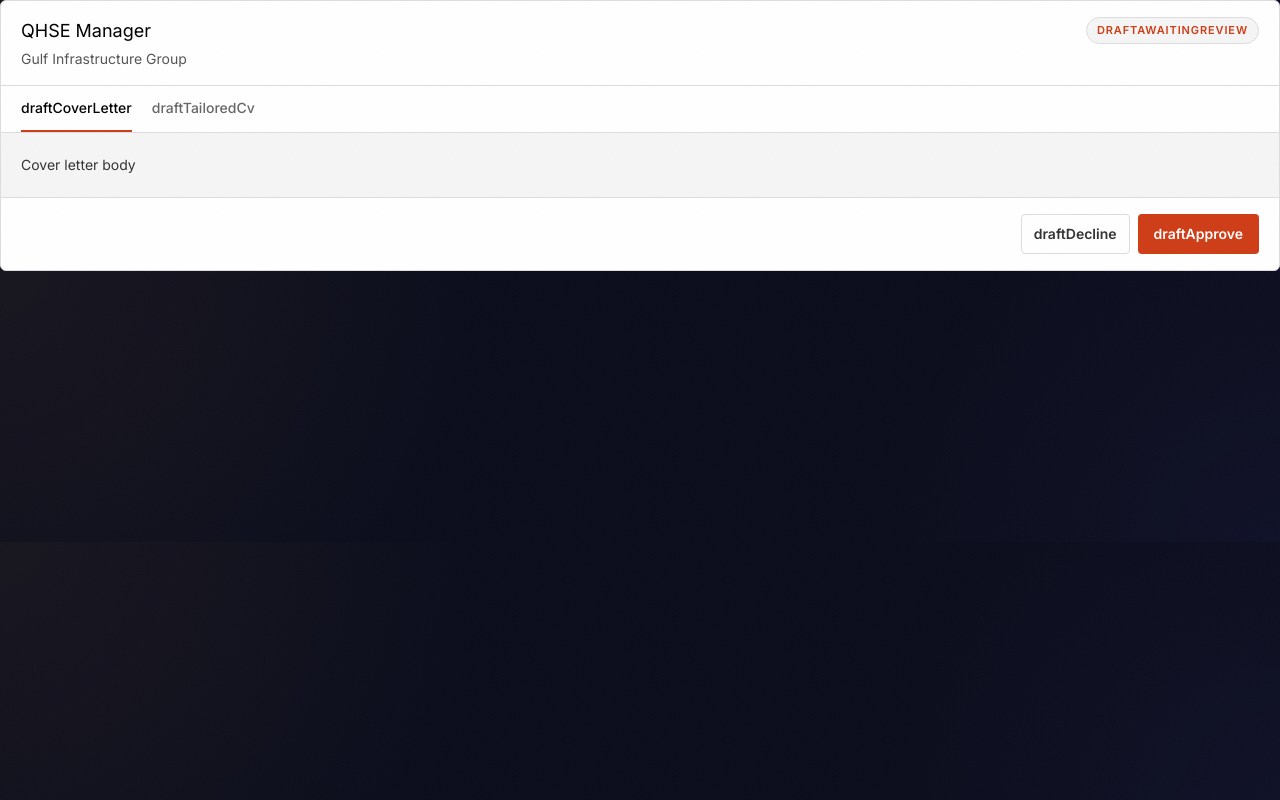
Scenario: ApplicationDraftCard — canonical approval confirmation › response ok but status is NOT approved → no receipt (unconfirmed)
Step 1. Click the button "draftApprove" → {"x": 1198, "y": 234}, box left=1138, top=214, right=1259, bottom=254
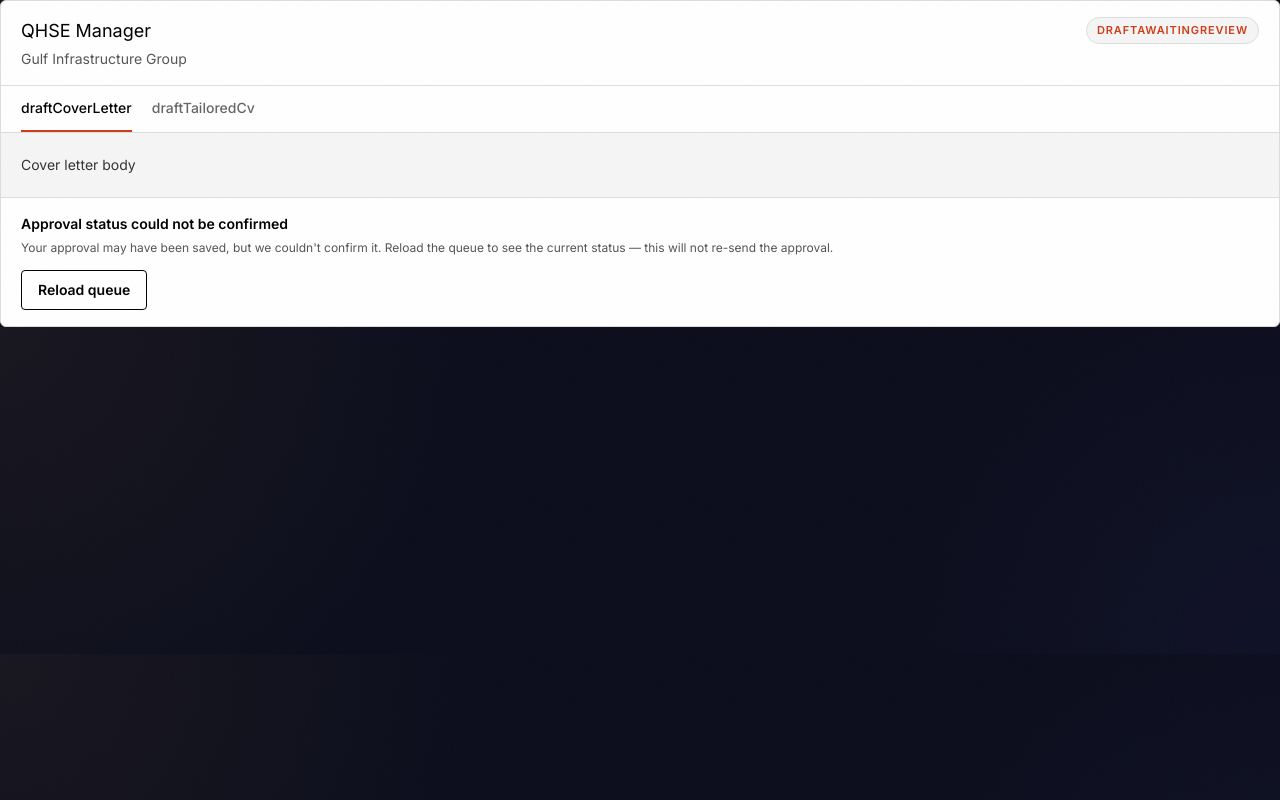
Expected: the text "Approval status could not be confirmed" is shown, left=21, top=215, right=288, bottom=232
